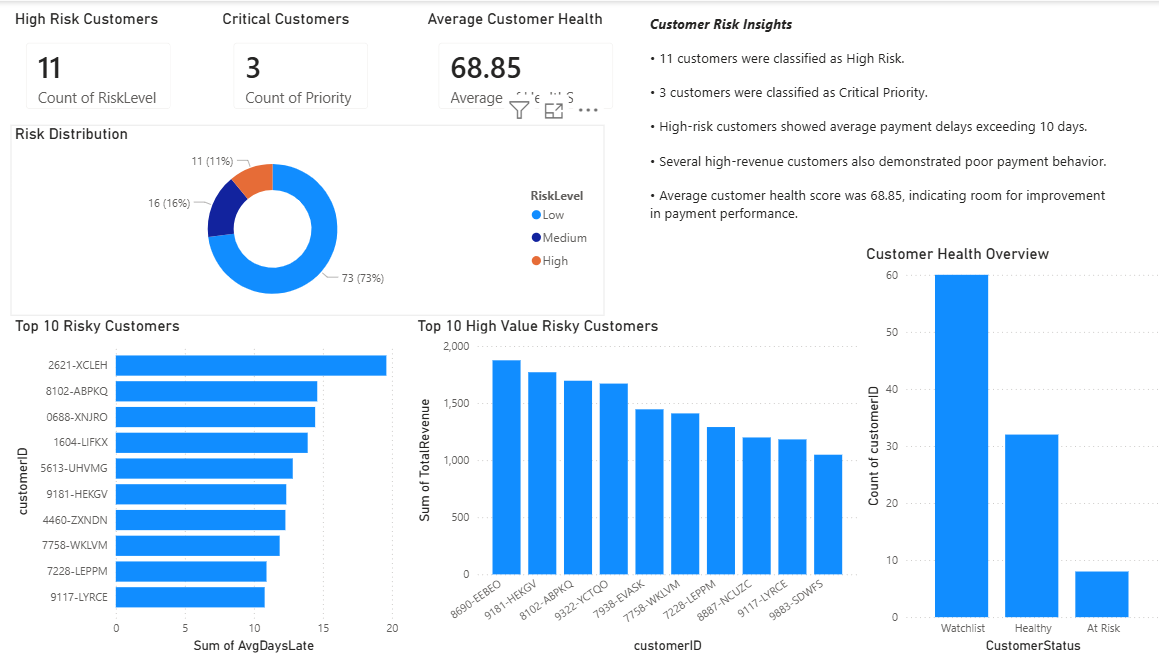

This screenshot's page, from the dashboard's own definition file:
{"tool":"powerbi","page":{"name":"Customer Risk Intelligence","canvas":[1280,720],"ordinal":1},"visuals":[{"type":"cardVisual","title":"High Risk Customers","fields":{"Data":["CountNonNull(customer_risk_report.RiskLevel)"]},"box":[13.7,9.6,193.5,126.2],"z":0},{"type":"cardVisual","title":"Critical Customers","fields":{"Data":["CountNonNull(customer_risk_report.Priority)"]},"box":[241.5,9.6,182.5,126.2],"z":1000},{"type":"cardVisual","title":"Average Customer Health","fields":{"Data":["Avg(customer_health_report.HealthScore)"]},"box":[466.6,9.6,226.4,126.2],"z":2000},{"type":"donutChart","title":"Risk Distribution","fields":{"Category":["customer_risk_report.RiskLevel"],"Y":["CountNonNull(customer_risk_report.customerID)"]},"box":[13.7,135.8,651.8,209.9],"z":3000},{"type":"clusteredBarChart","title":"Top 10 Risky Customers","fields":{"Category":["customer_risk_report.customerID"],"Y":["Sum(customer_risk_report.AvgDaysLate)"]},"box":[13.7,345.8,430.9,374.6],"z":4000},{"type":"columnChart","title":"Top 10 High Value Risky Customers","fields":{"Y":["Sum(high_value_risky_customers.TotalRevenue)"],"Category":["high_value_risky_customers.customerID"]},"box":[455.6,345.8,492.6,374.6],"z":5000},{"type":"clusteredColumnChart","title":"Customer Health Overview","fields":{"Category":["customer_health_report.CustomerStatus"],"Y":["CountNonNull(customer_health_report.customerID)"]},"box":[948.2,267.6,332.1,452.8],"z":6000},{"type":"textbox","box":[710.8,9.6,514.6,258],"z":7000}]}

Visuals, with their boxes in screenshot pixels (x1, y1, x2, y2), scaled from the page's 1280x720 canvas onto the 1159x655 screenshot:
"High Risk Customers" cardVisual: box=[12, 9, 188, 124]
"Critical Customers" cardVisual: box=[219, 9, 384, 124]
"Average Customer Health" cardVisual: box=[422, 9, 627, 124]
"Risk Distribution" donutChart: box=[12, 124, 603, 314]
"Top 10 Risky Customers" clusteredBarChart: box=[12, 315, 403, 654]
"Top 10 High Value Risky Customers" columnChart: box=[413, 315, 859, 654]
"Customer Health Overview" clusteredColumnChart: box=[859, 243, 1158, 654]
textbox: box=[644, 9, 1110, 243]
